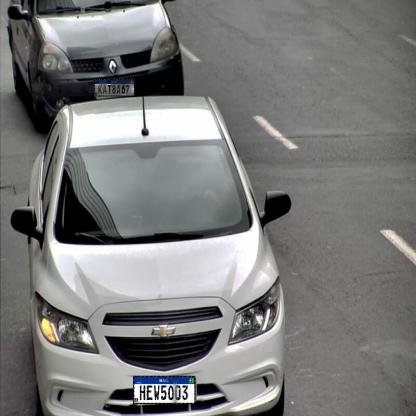PlacaM: (133, 376, 196, 404), (94, 79, 135, 96)
